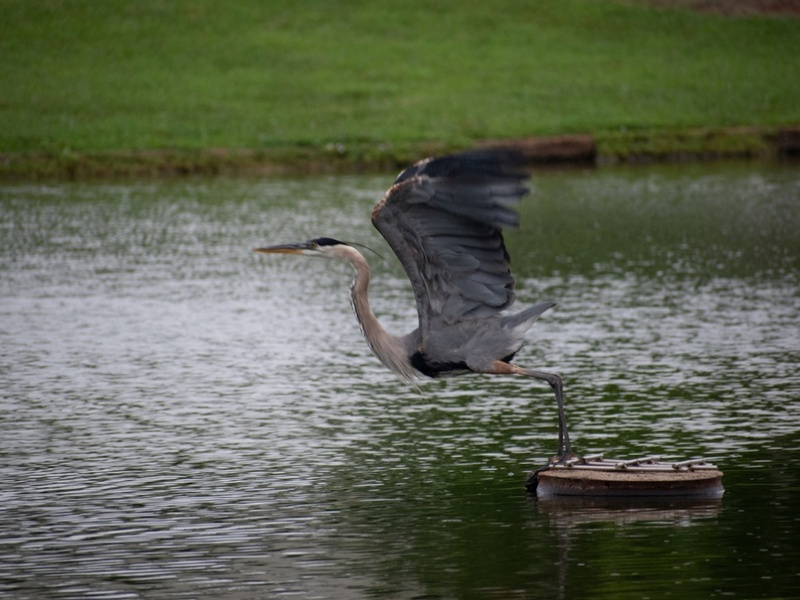heron: (248, 148, 579, 467)
